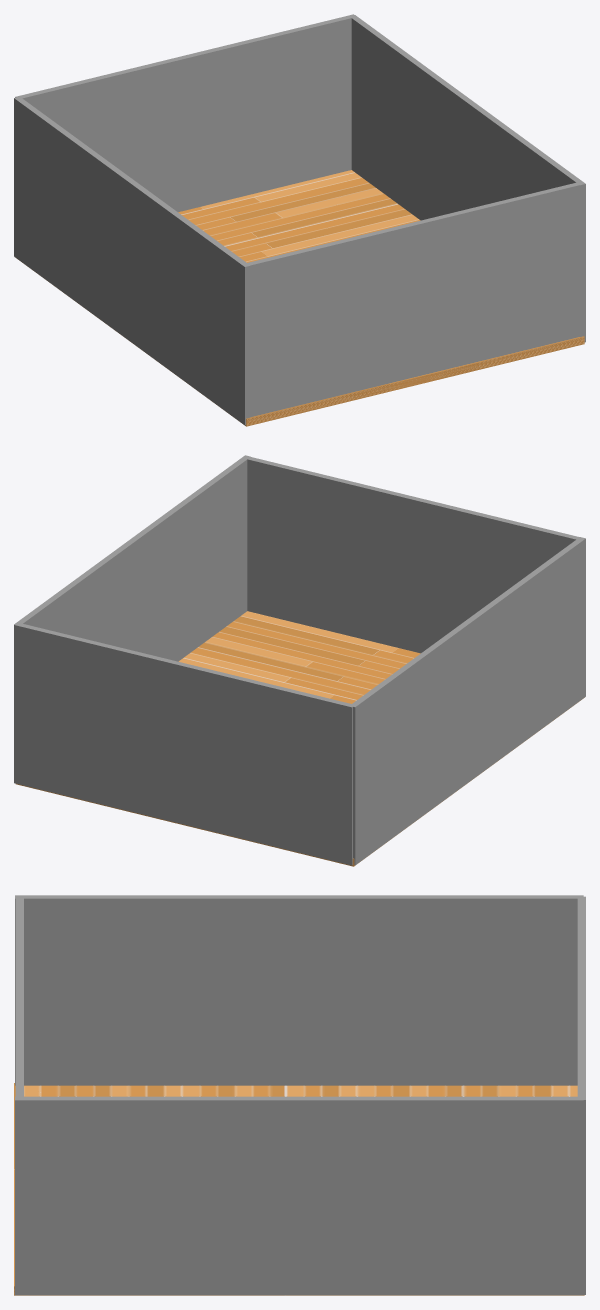
The model's file is gymnasefbx.fbx.
The picture shows the model from 3 angles, top to bottom: view 1: azimuth 30°, elevation 25°; view 2: azimuth 150°, elevation 25°; view 3: azimuth 270°, elevation 25°; orthographic projection. The views are drawn at different scales.
Parts seen in each view (by area): view 1: pCube6; view 2: pCube6; view 3: pCube6.
Part boxes in pixels (bbox=[...]): pCube6: bbox=[14, 14, 585, 426]; pCube6: bbox=[14, 455, 585, 866]; pCube6: bbox=[14, 895, 585, 1295].
Size of the model in its own units: 72.9 by 32.6 by 85.97.
Materials: 2 (1 with a texture image).
